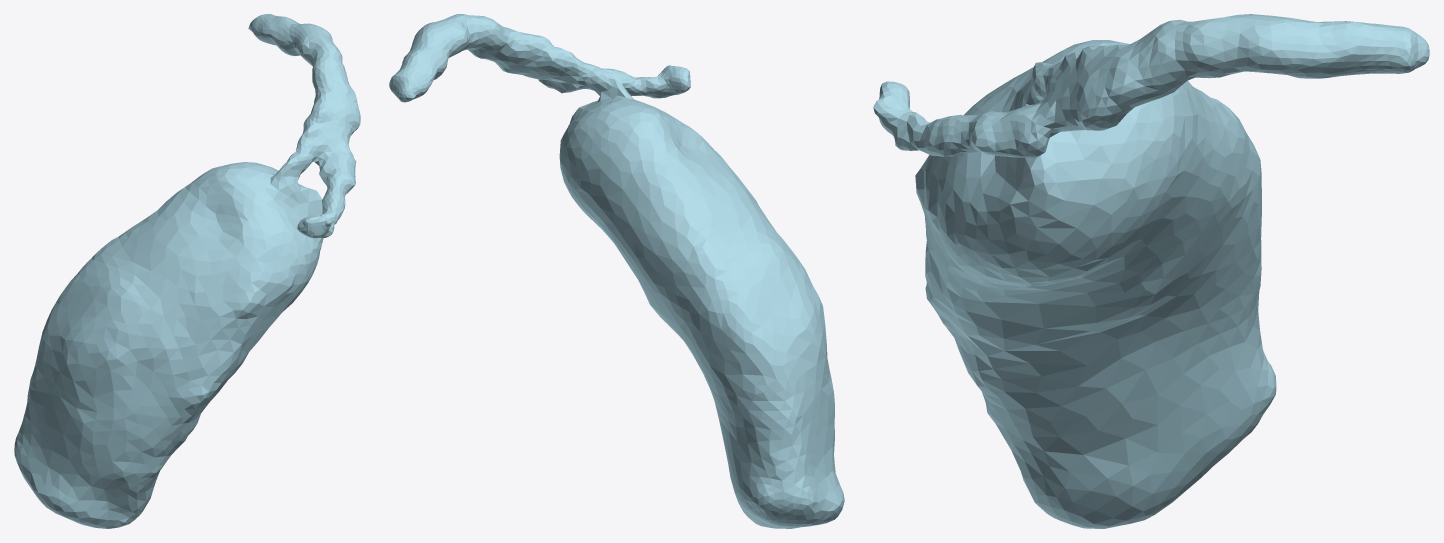
Rendered from gallbladder.obj.
The picture shows the model from 3 angles, left to right: view 1: azimuth 30°, elevation 25°; view 2: azimuth 150°, elevation 25°; view 3: azimuth 270°, elevation 25°; orthographic projection. The views are drawn at different scales.
Visible parts, largest first — view 1: grp1; view 2: grp1; view 3: grp1.
Part boxes in pixels (x1=…): grp1: x1=14, y1=14, x2=360, y2=528; grp1: x1=389, y1=14, x2=844, y2=528; grp1: x1=873, y1=14, x2=1429, y2=528.
Bounding box in the file's own units: 71.7 × 84.02 × 58.17.
